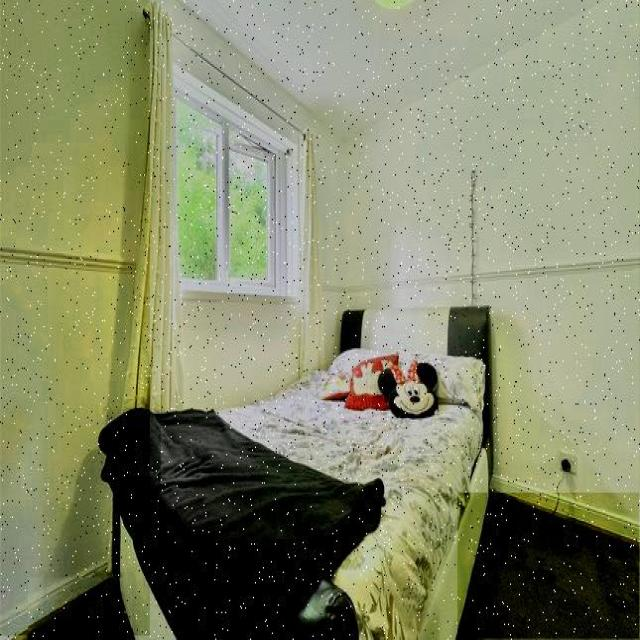Wall: (161, 0, 639, 539), (0, 0, 150, 636), (184, 0, 597, 134), (458, 493, 640, 639), (184, 294, 300, 406), (29, 579, 132, 639)
